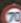Speed Limit -70-: (0, 0, 20, 22)
